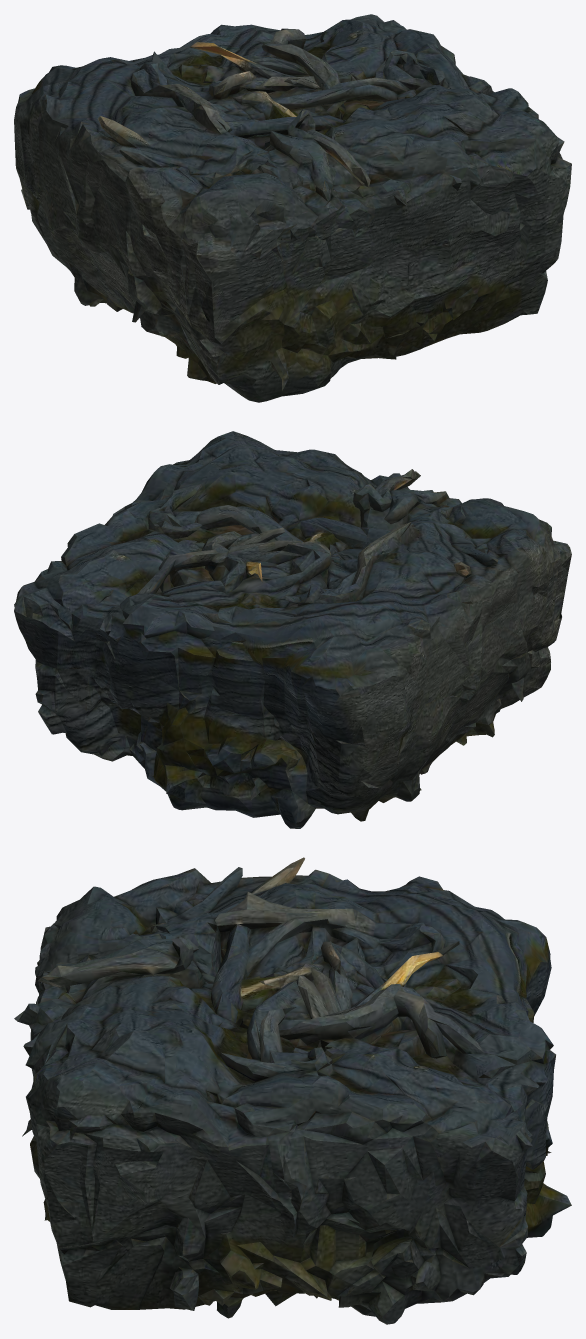
Rendered from min2-peat-final.glb.
3 renders of one model, top to bottom at view 1: azimuth 30°, elevation 25°; view 2: azimuth 150°, elevation 25°; view 3: azimuth 270°, elevation 25°, orthographic. The views are drawn at different scales.
Visible parts, largest first — view 1: Mesh_0; view 2: Mesh_0; view 3: Mesh_0.
Part boxes in pixels (x1=…): Mesh_0: x1=14, y1=14, x2=571, y2=402; Mesh_0: x1=14, y1=431, x2=571, y2=828; Mesh_0: x1=14, y1=857, x2=571, y2=1324.
Bounding box in the file's own units: 0.2069 × 0.12 × 0.2093.
1 material, 1 textured.
